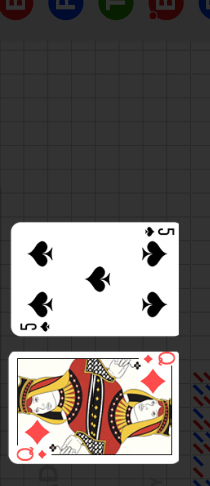5S: (19, 320, 52, 332), (143, 226, 176, 238)
QD: (132, 364, 179, 408), (12, 431, 58, 475)
